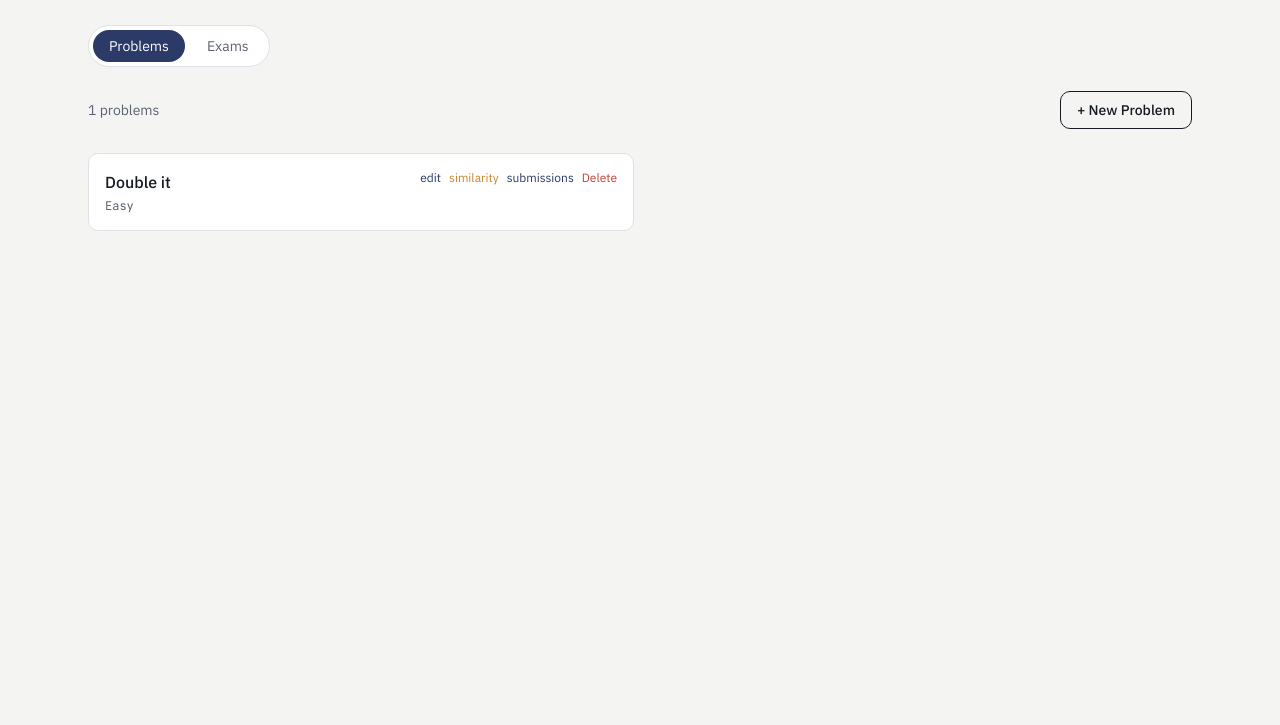
it: editing a problem › refuses to remove the only test case
What coordinates should you click on to do the following:
click the button with aria-label "edit problem double it"
I would click on:
 (431, 178)
Its box is [420,170,441,186].
(page scrolled)
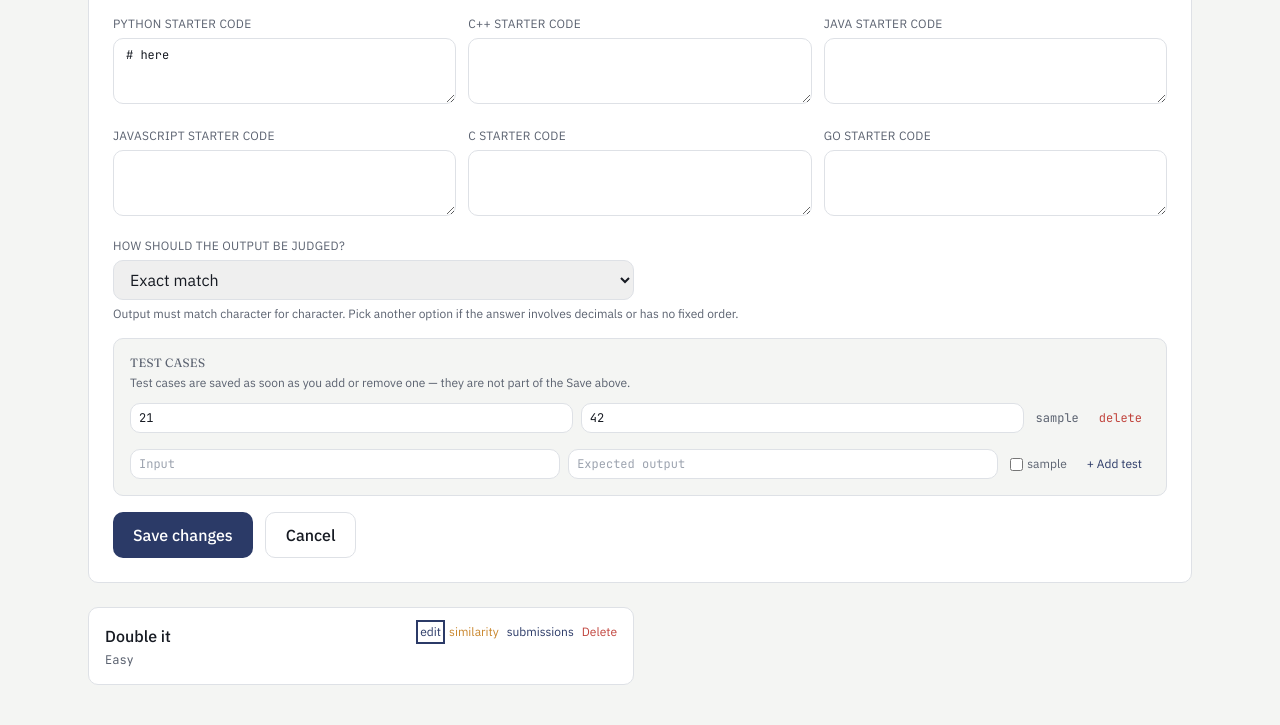
What coordinates should you click on to do the following:
click the button with aria-label "delete test 1"
I would click on:
 (1120, 418)
Its box is [1091,410,1150,426].
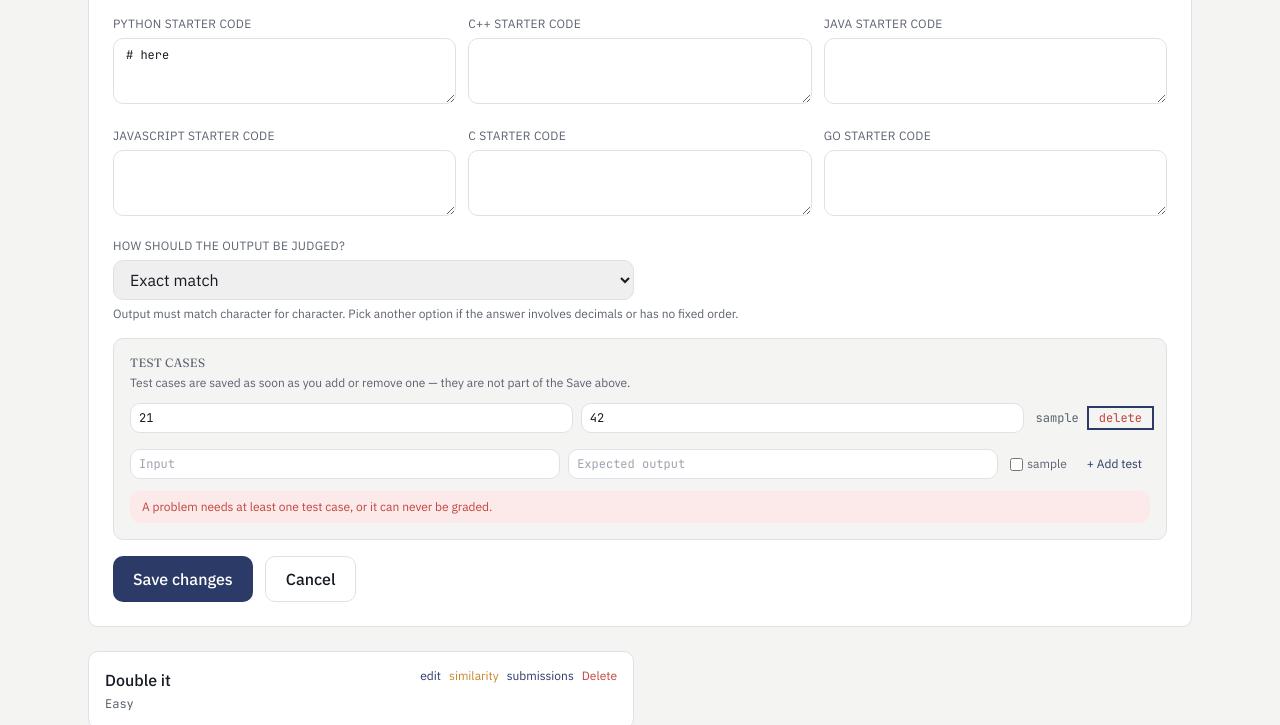
Check: the message shows "at least one test case", box [142,499,492,514]
